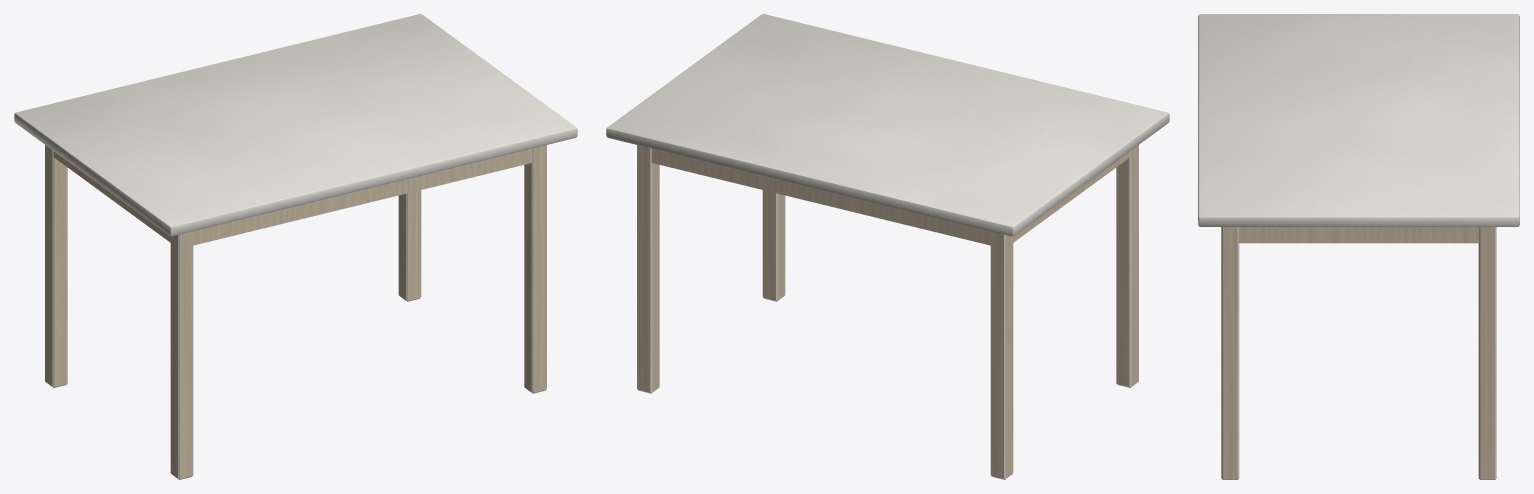
The model's file is table.glb.
3 views of the same model, side by side, from view 1: azimuth 30°, elevation 25°; view 2: azimuth 150°, elevation 25°; view 3: azimuth 270°, elevation 25° (orthographic). The views are drawn at different scales.
Visible parts, largest first — view 1: table; view 2: table; view 3: table.
Part boxes in pixels (x1,y1,x2,y2): table: (14,14,577,479); table: (606,14,1169,479); table: (1198,14,1519,479).
Bounding box in the file's own units: 1.2 × 0.75 × 0.8.
Materials: 2 (2 with a texture image).
